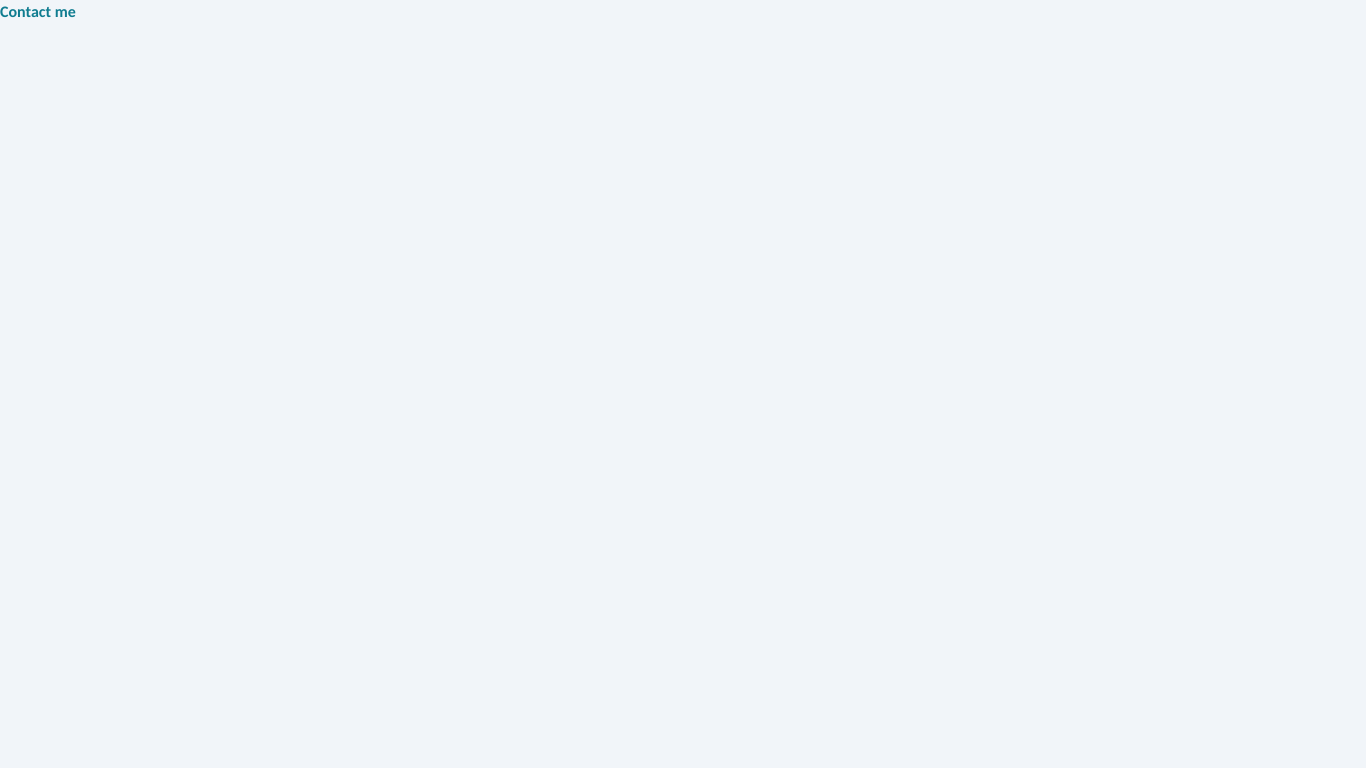
Test: ContactDialog › sends the message through Web3Forms and thanks for it
The width and height of the screenshot is (1366, 768).
Click the button "Contact me" at (38, 12), box [0,0,76,24]
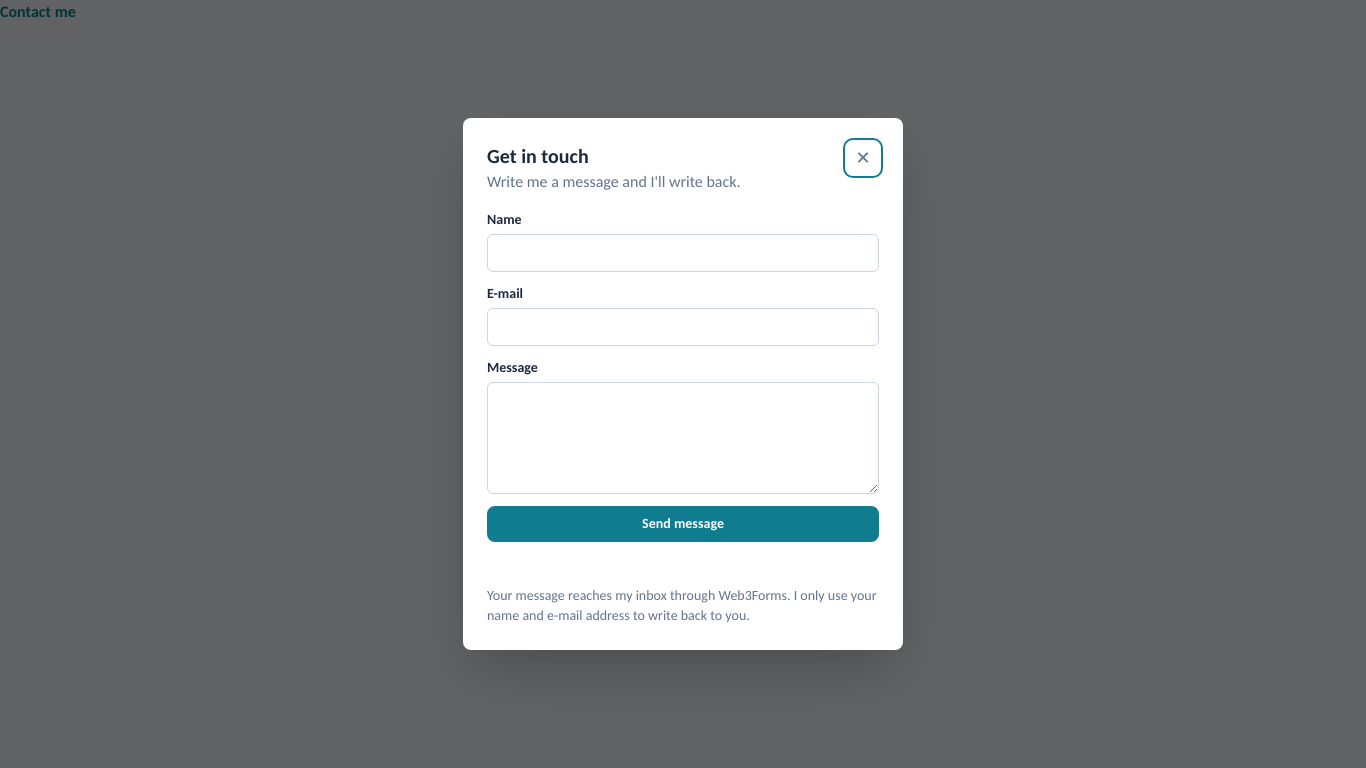
Type "Rika" into the field labelled "Name" at (683, 253), box [487,234,879,272]
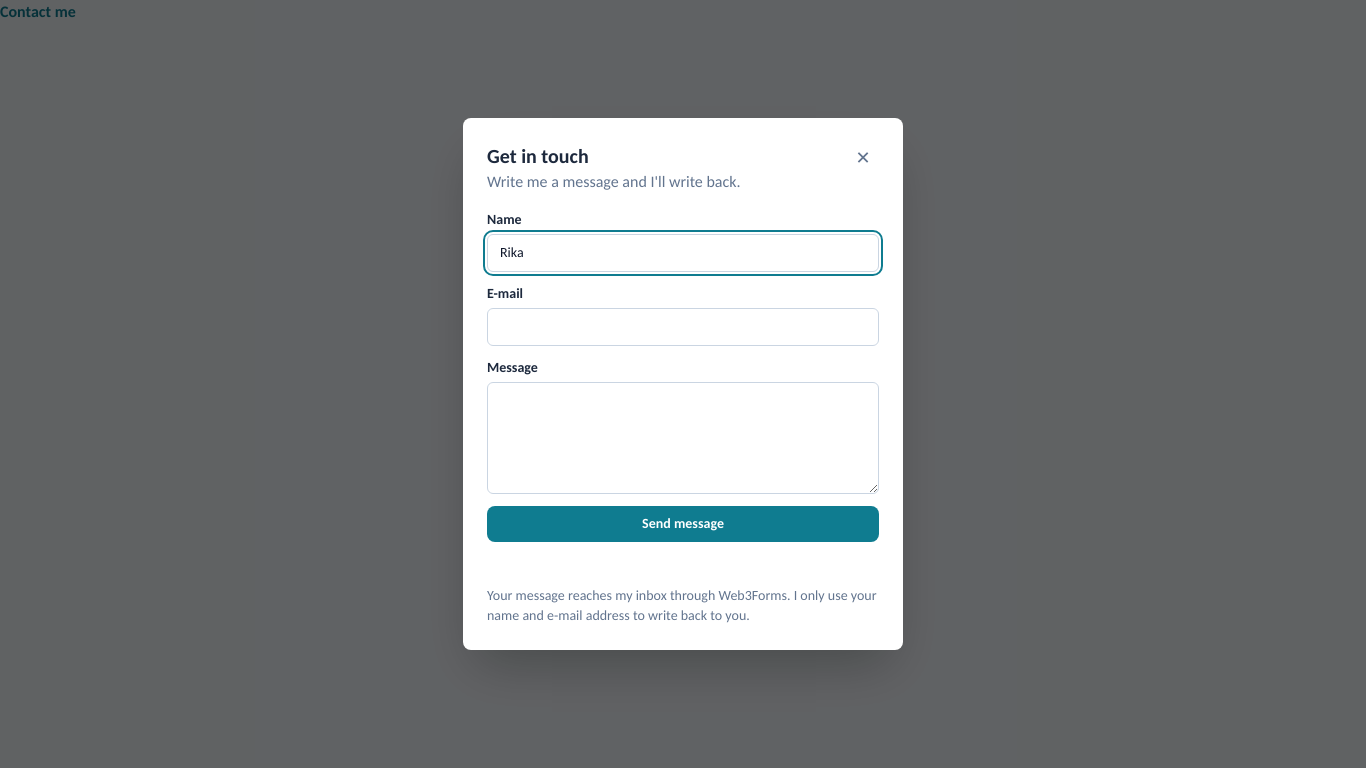
Type "rika@example.com" into the field labelled "E-mail" at (683, 327), box [487,308,879,346]
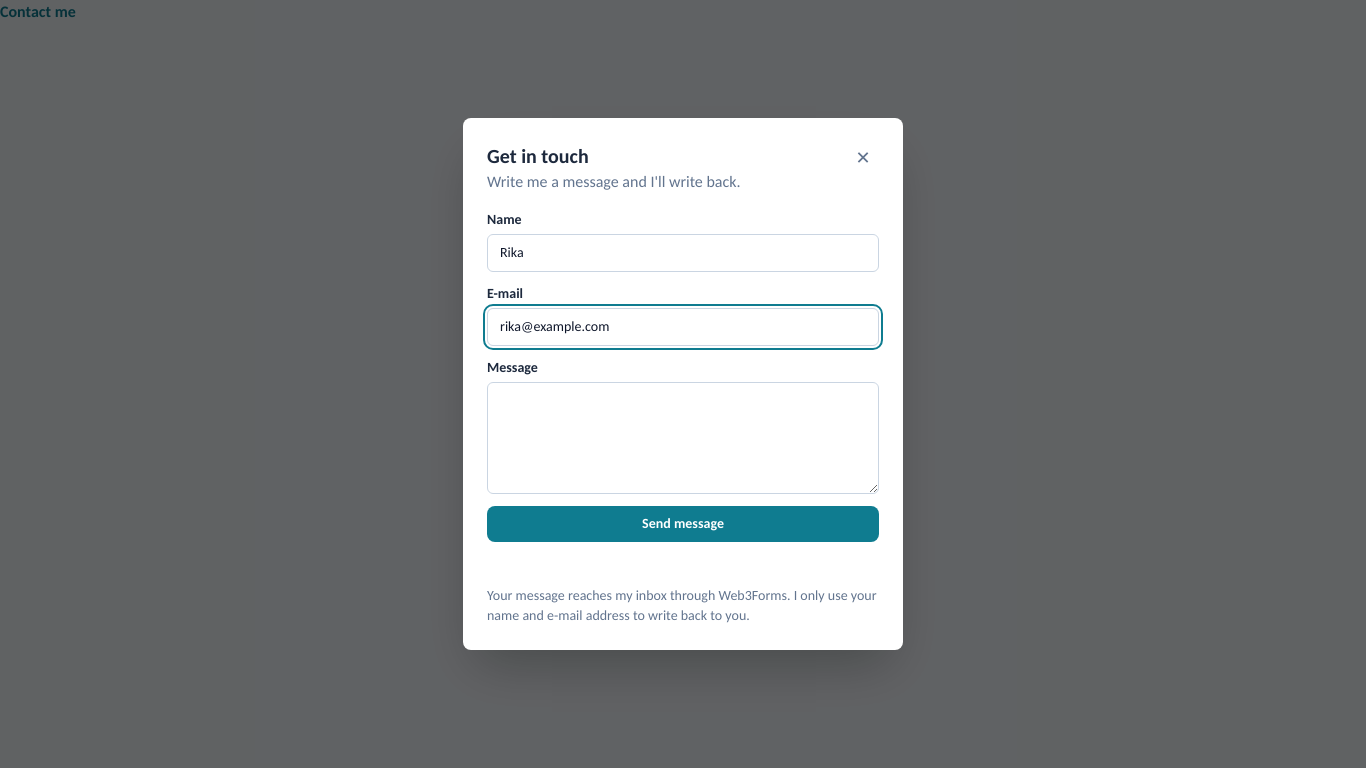
Type "Hello from the raisin!" into the text box labelled "Message" at (683, 438), box [487,382,879,494]
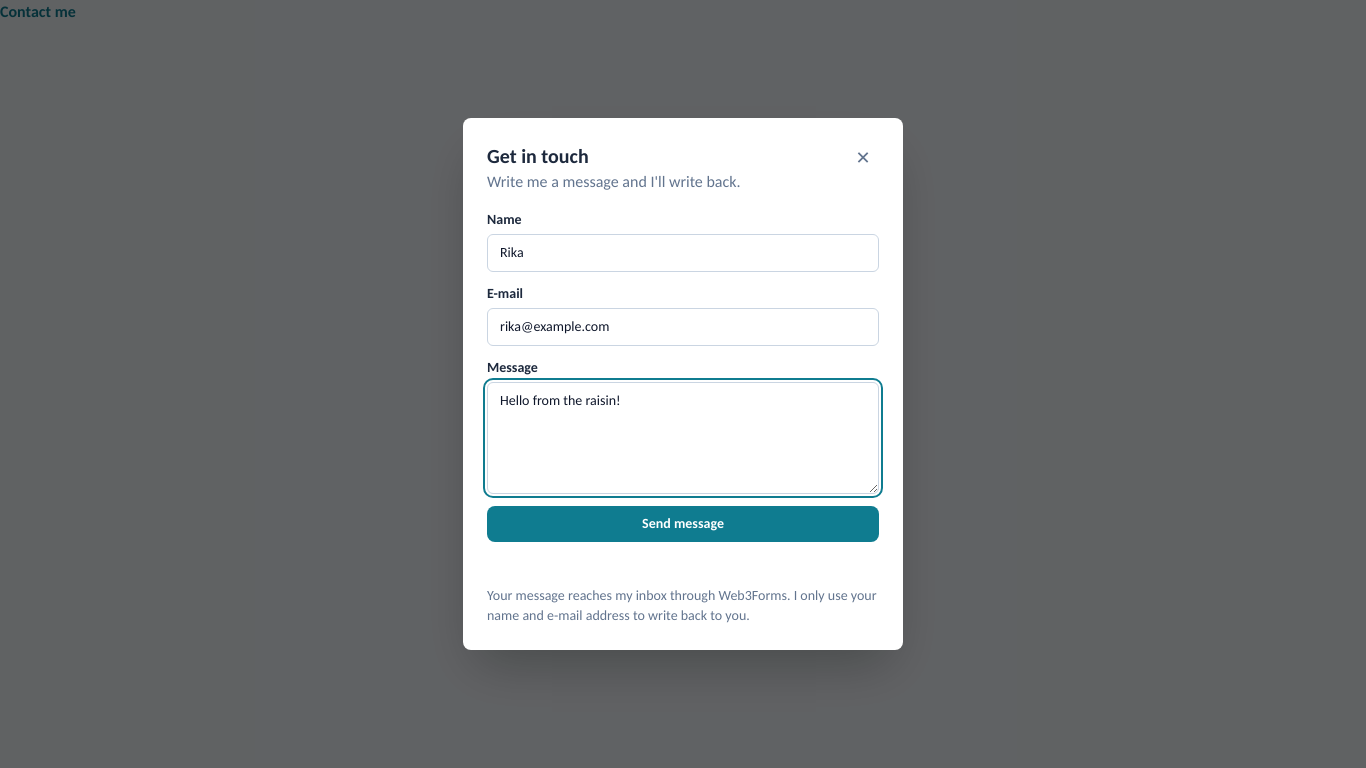
Click the button "Send message" at (683, 524), box [487,506,879,542]
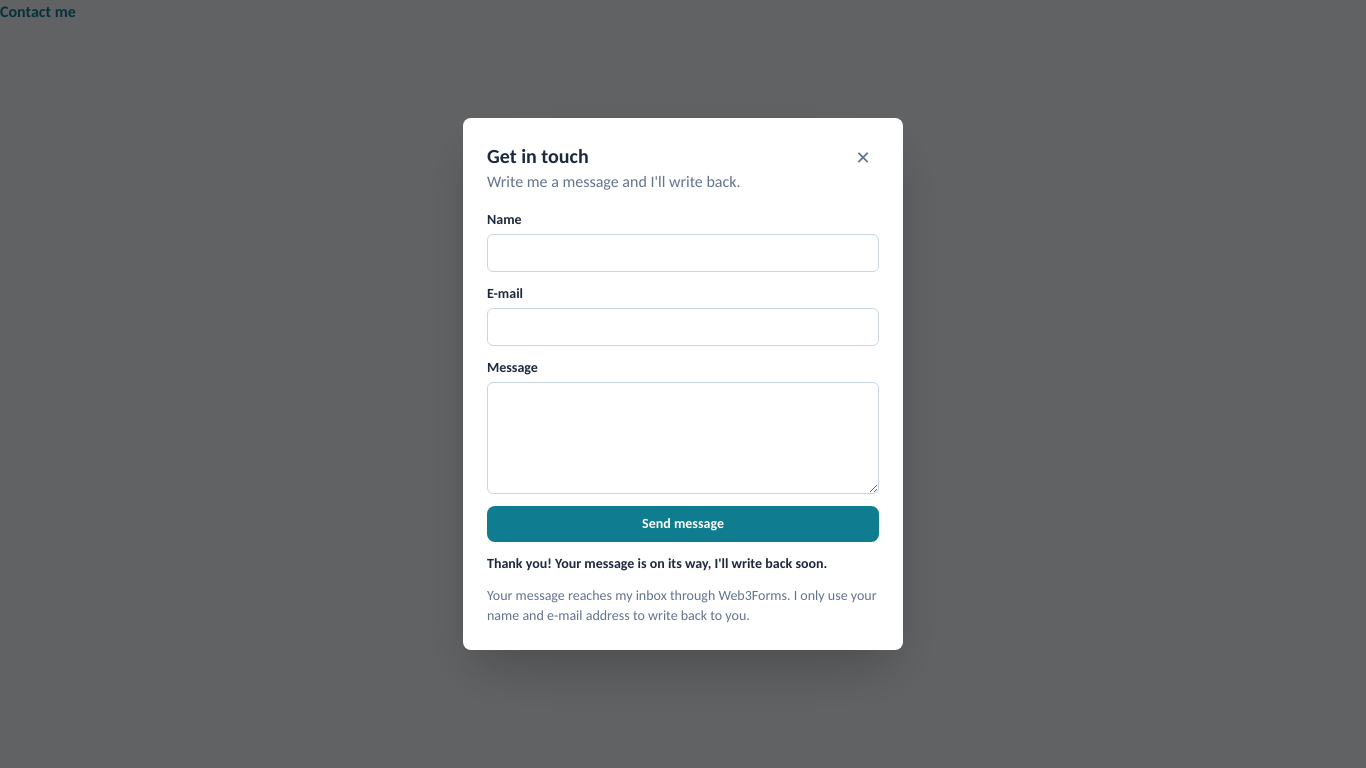
Expected: the text "Thank you! Your message is on its way, I'll write back soon." is shown, [487,554,879,574]
